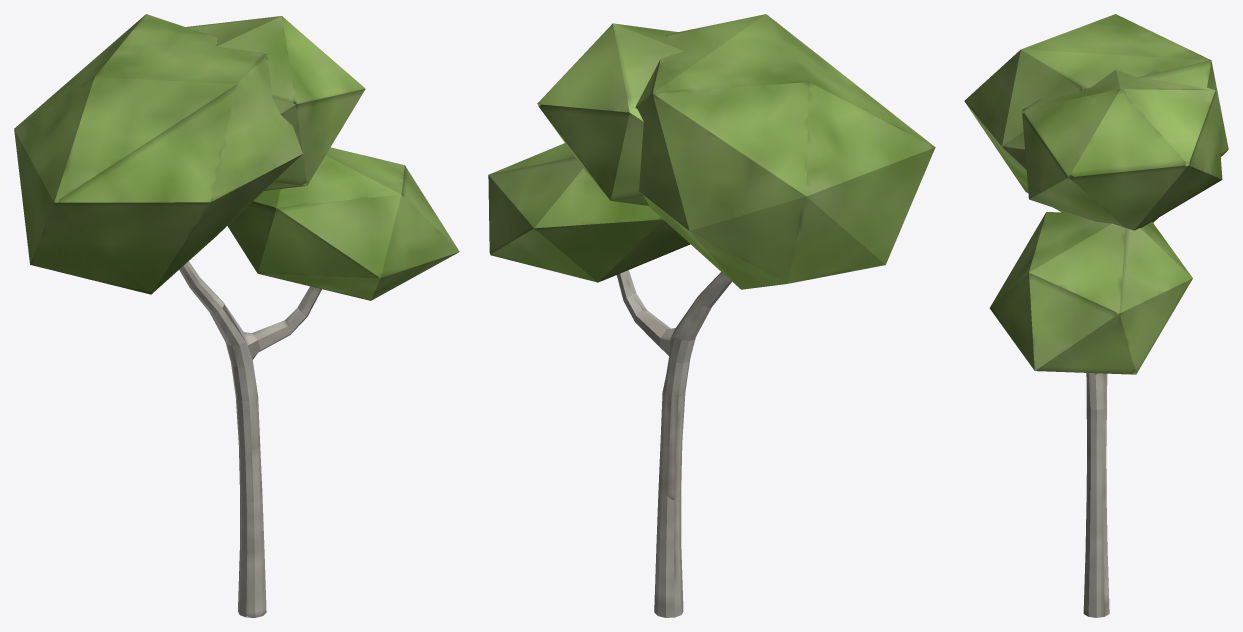
The model's file is tree_basic1.fbx.
3 renders of one model, left to right at view 1: azimuth 30°, elevation 25°; view 2: azimuth 150°, elevation 25°; view 3: azimuth 270°, elevation 25°, orthographic. The views are drawn at different scales.
Parts seen in each view (by area): view 1: group3_1, pPlatonic2, group3, group3_2; view 2: group3_1, pPlatonic2, group3, group3_2; view 3: group3, pPlatonic2, group3_1, group3_2.
Part boxes in pixels (x1,y1,x2,y2): group3_1: (14, 14, 302, 294); pPlatonic2: (227, 147, 459, 300); group3: (186, 16, 365, 190); group3_2: (179, 261, 321, 617); group3_1: (635, 14, 935, 289); pPlatonic2: (488, 143, 690, 282); group3: (537, 23, 683, 205); group3_2: (617, 270, 731, 617); group3: (1022, 69, 1222, 230); pPlatonic2: (989, 212, 1192, 374); group3_1: (964, 14, 1228, 222); group3_2: (1083, 373, 1109, 617).
Bounding box in the file's own units: 226 × 308 × 136.
Materials: 1 (1 with a texture image).
